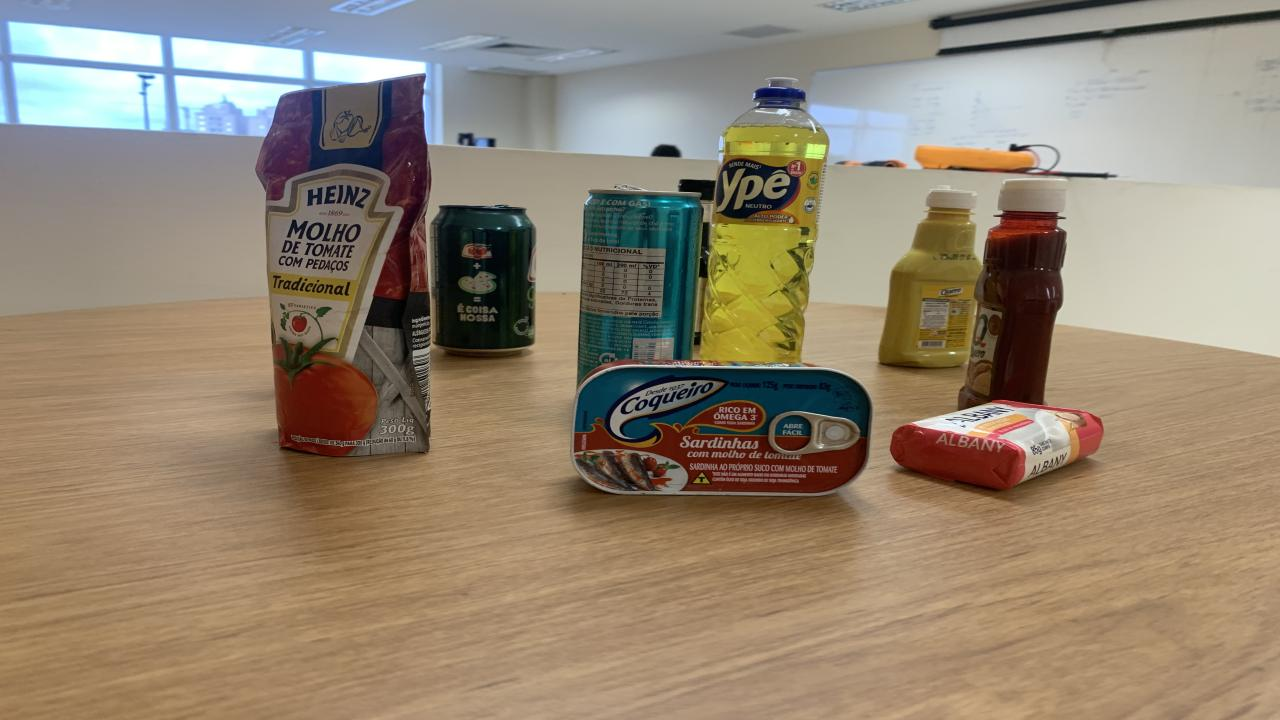Detergent-Cleanup_Items: (700, 79, 830, 362)
Guarana-Drinks: (698, 221, 710, 278)
Guarana_Can-Drinks: (432, 204, 535, 356)
Ketchup-Pantry_Items: (958, 178, 1068, 409)
Mustard-Pantry_Items: (878, 186, 982, 368)
Soap-Cleanup_Items: (890, 399, 1102, 489)
Tea-Drinks: (578, 189, 702, 382)
Tomato_Sauce-Pantry_Items: (255, 75, 430, 456)
Tuna_Can-Pantry_Items: (572, 360, 872, 495)
